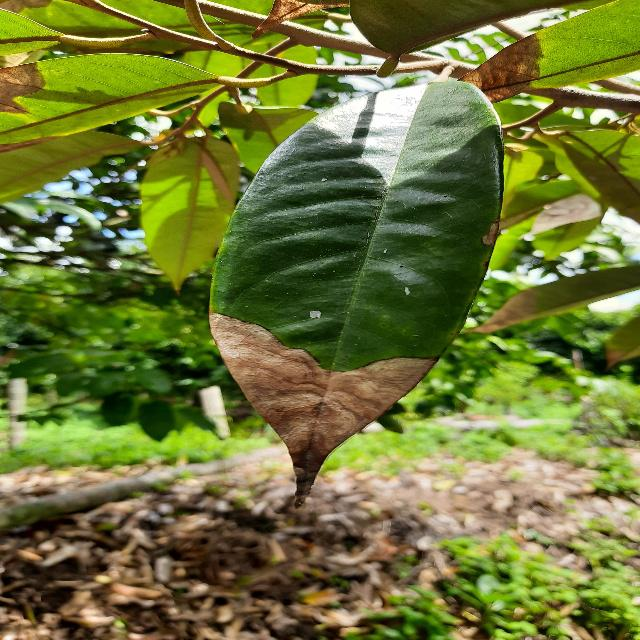Leaf Blight: (201, 69, 515, 495)
